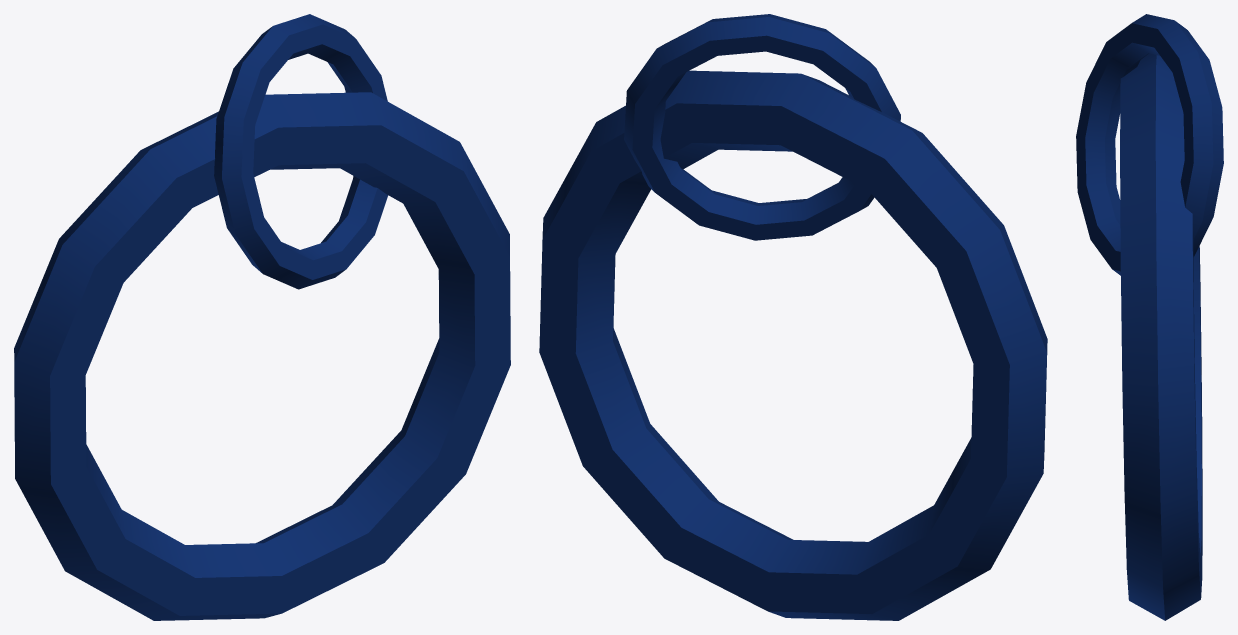
File: MeshKeychain3_0_GeomSubset_4.obj
3 renders of one model, left to right at view 1: azimuth 30°, elevation 25°; view 2: azimuth 150°, elevation 25°; view 3: azimuth 270°, elevation 25°, orthographic. The views are drawn at different scales.
Visible parts, largest first — view 1: MeshKeychain3_0_GeomSubset_4; view 2: MeshKeychain3_0_GeomSubset_4; view 3: MeshKeychain3_0_GeomSubset_4.
Boxes of the visible parts, x1,y1,x2,y2 form: MeshKeychain3_0_GeomSubset_4: [14, 14, 510, 620]; MeshKeychain3_0_GeomSubset_4: [539, 14, 1047, 620]; MeshKeychain3_0_GeomSubset_4: [1076, 14, 1223, 620].
Bounding box in the file's own units: 0.0225 × 0.0254 × 0.00585.
